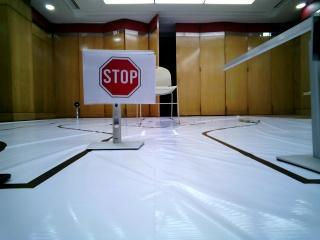stop: (88, 53, 152, 102)
